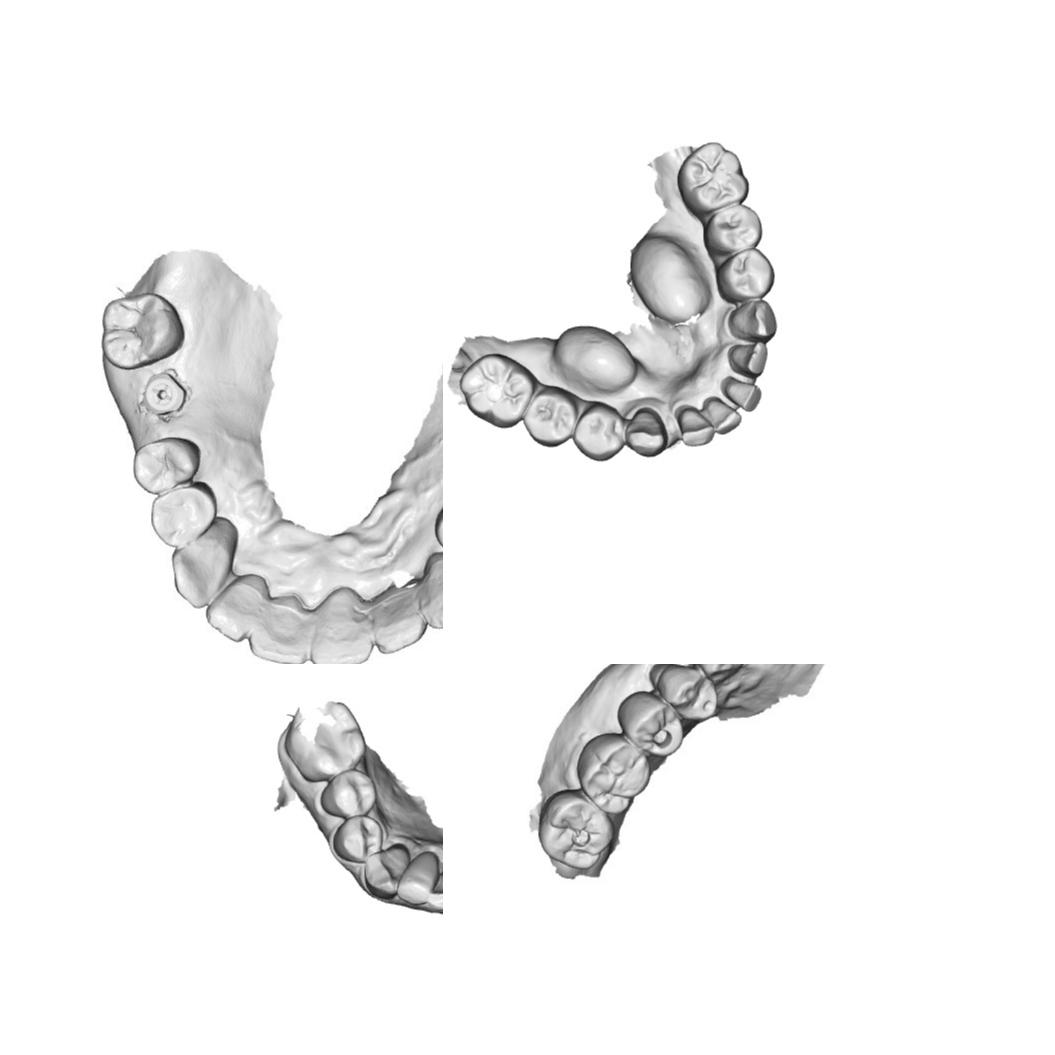canine: (167, 517, 242, 611), (363, 842, 410, 900), (726, 298, 779, 343), (623, 407, 669, 458), (418, 551, 443, 629), (685, 664, 758, 676)
implant_plus: (142, 369, 187, 418)
incisor: (310, 581, 372, 664), (244, 587, 313, 661), (372, 582, 427, 648), (210, 573, 264, 637), (397, 850, 440, 906), (724, 340, 770, 380), (676, 405, 716, 447), (703, 397, 743, 436), (724, 379, 763, 413), (428, 871, 443, 910)
molar: (282, 701, 367, 784), (100, 289, 186, 370), (457, 352, 537, 430), (675, 140, 750, 215), (541, 791, 612, 868), (583, 740, 646, 804)
premolar: (522, 384, 579, 449), (149, 484, 216, 539), (714, 246, 776, 303), (702, 202, 765, 258), (573, 400, 626, 463), (630, 702, 685, 756), (320, 769, 378, 820), (661, 668, 719, 716), (131, 444, 191, 489), (334, 814, 384, 865)
